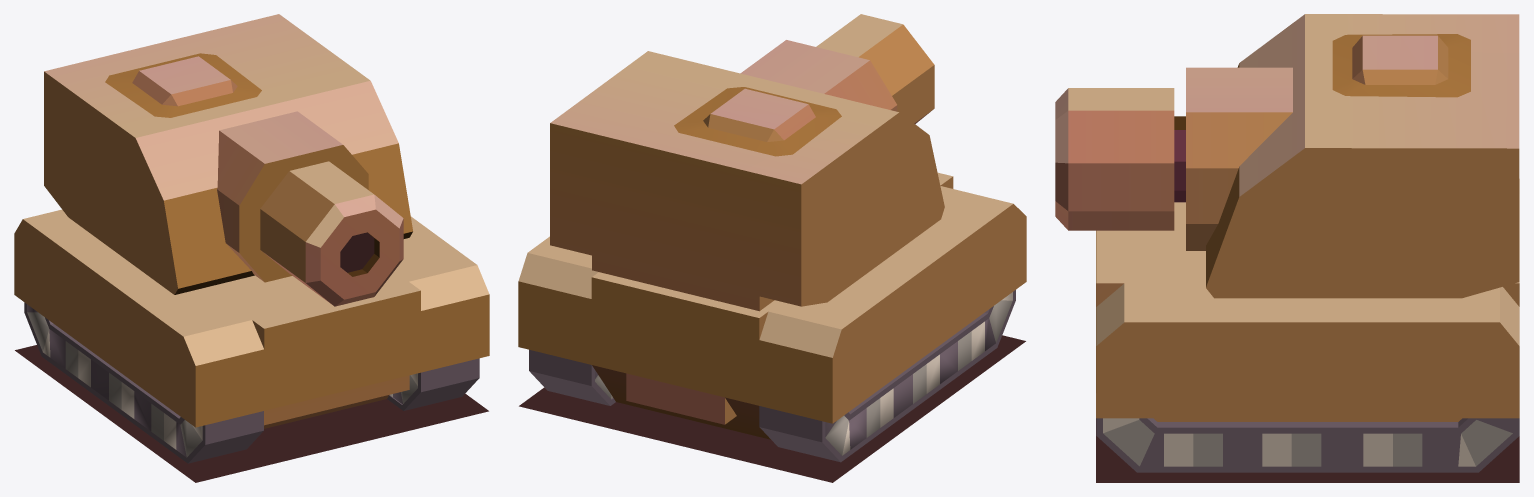
The model's file is TankMesh.BrownDesert.glb.
3 views of the same model, side by side, from view 1: azimuth 30°, elevation 25°; view 2: azimuth 150°, elevation 25°; view 3: azimuth 270°, elevation 25° (orthographic). The views are drawn at different scales.
Visible parts, largest first — view 1: TankMesh.BrownDesert; view 2: TankMesh.BrownDesert; view 3: TankMesh.BrownDesert.
Boxes of the visible parts, x1,y1,x2,y2 form: TankMesh.BrownDesert: [14, 14, 489, 482]; TankMesh.BrownDesert: [518, 14, 1026, 482]; TankMesh.BrownDesert: [1055, 14, 1519, 482].
Size of the model in its own units: 1.5 by 1.38 by 1.76.
Materials: 1 (1 with a texture image).
